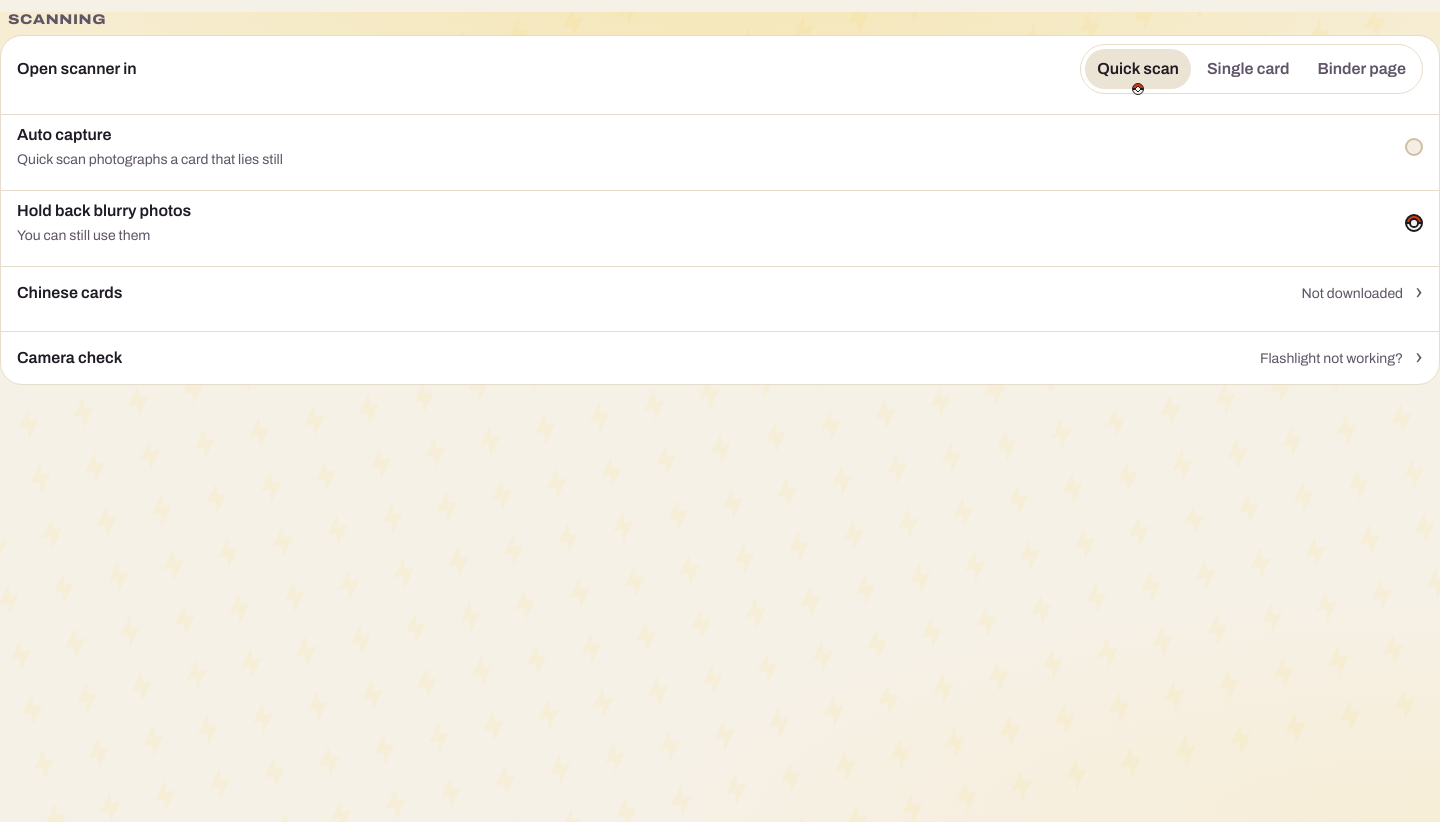
Test: Settings → Scanning (24-10-2026, beknopte lijst) › pauze tussen foto’s alleen zichtbaar met Auto capture aan
Expected: the element "Time between photos" is not shown
Click the checkbox labelled "Auto capture Quick scan photographs a card that lies still".
click(1414, 147)  # box [1405,138,1423,156]
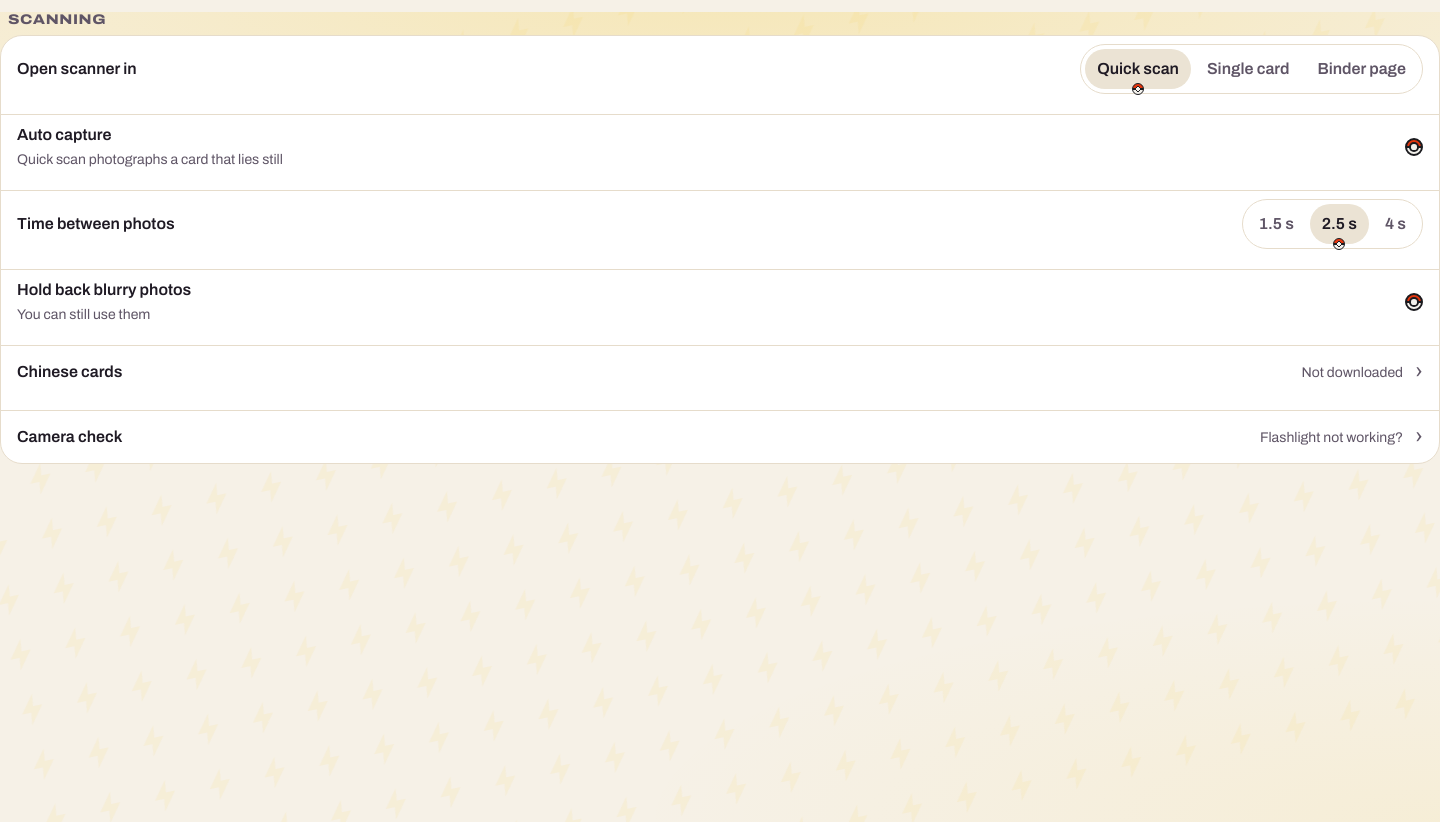
Expected: the element named "Time between photos" is shown, [1242,199,1423,249]
